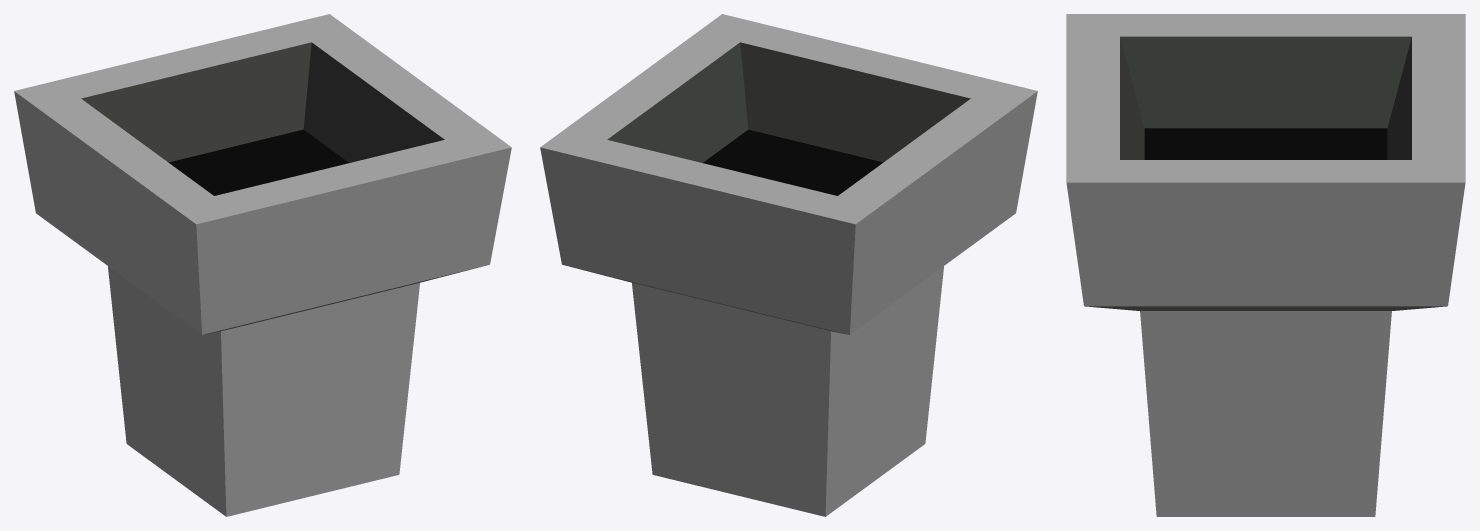
The model's file is Chimney.fbx.
3 renders of one model, left to right at view 1: azimuth 30°, elevation 25°; view 2: azimuth 150°, elevation 25°; view 3: azimuth 270°, elevation 25°, orthographic. The views are drawn at different scales.
Parts seen in each view (by area): view 1: Chimney; view 2: Chimney; view 3: Chimney.
Boxes of the visible parts, box(x1,y1,x2,y2) form: Chimney: box(14, 14, 511, 516); Chimney: box(540, 14, 1037, 516); Chimney: box(1066, 14, 1465, 516).
Size of the model in its own units: 2.34 by 2.41 by 2.34.
